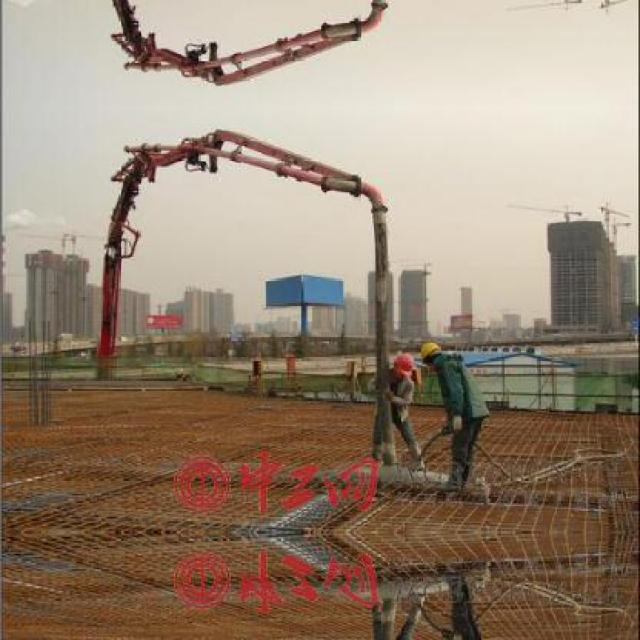helmet: (416, 338, 446, 364), (391, 350, 415, 379)
